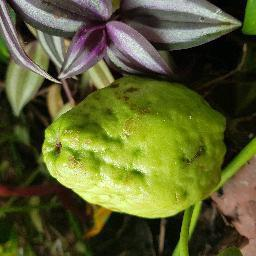Good_guava: (43, 76, 232, 224)
